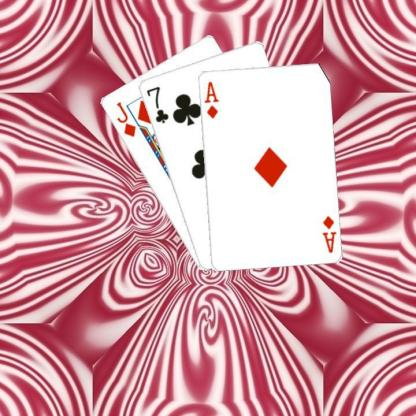7C: (143, 84, 170, 125)
AD: (202, 78, 220, 119), (319, 213, 337, 254)
JD: (113, 99, 137, 139)
